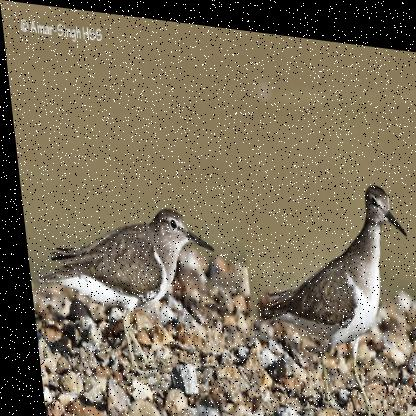Burung: (239, 155, 415, 415), (22, 187, 222, 382)
